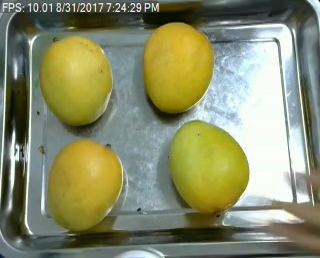Mango: (43, 140, 126, 229), (171, 119, 250, 212), (40, 32, 114, 124), (146, 23, 216, 112)
